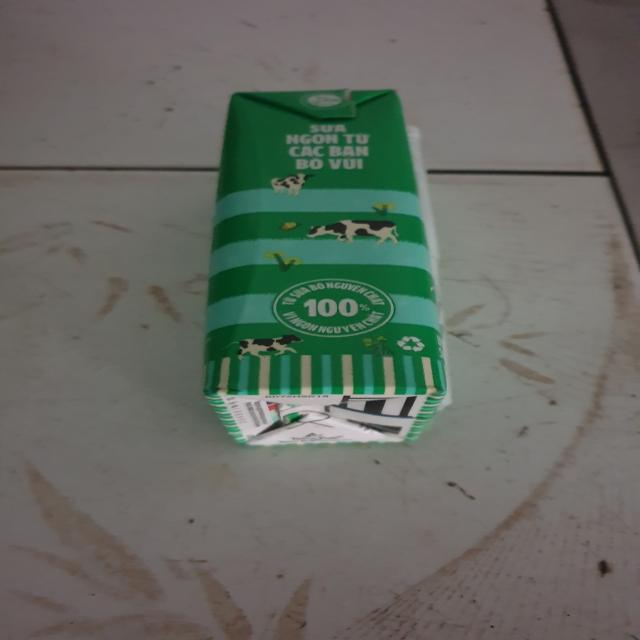Vina: (210, 85, 455, 452)
